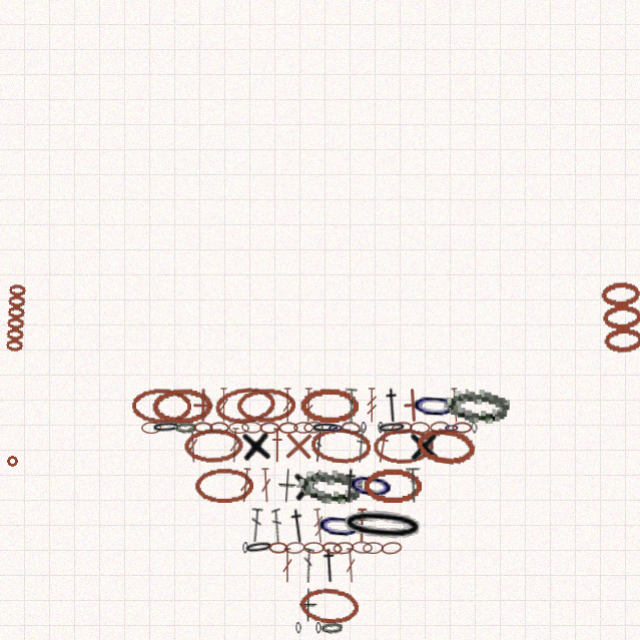chain: (338, 505, 428, 547), (414, 425, 477, 467), (214, 385, 277, 426), (297, 467, 363, 505), (444, 387, 510, 424), (310, 426, 372, 465), (299, 586, 360, 625), (184, 428, 245, 464), (373, 428, 434, 464), (152, 388, 213, 424), (345, 465, 398, 506), (132, 388, 192, 424), (237, 388, 296, 424), (195, 468, 254, 503), (363, 468, 422, 503), (300, 388, 359, 423), (315, 506, 366, 545), (410, 387, 460, 424), (244, 540, 275, 555), (377, 421, 407, 435), (152, 421, 182, 434), (311, 422, 341, 434), (333, 541, 355, 555), (381, 541, 403, 555), (391, 421, 413, 435), (285, 541, 306, 555), (322, 541, 343, 555), (341, 421, 362, 435), (321, 621, 343, 634), (175, 421, 197, 434), (352, 541, 373, 554), (242, 421, 263, 434), (304, 421, 324, 434), (430, 421, 450, 434), (304, 542, 325, 554), (363, 542, 384, 554), (229, 422, 250, 434), (269, 542, 289, 554), (142, 422, 162, 434), (194, 422, 214, 434), (210, 422, 230, 434), (260, 422, 280, 434), (279, 422, 299, 434), (294, 422, 314, 434), (410, 422, 430, 434), (452, 422, 472, 434), (328, 422, 344, 434), (444, 422, 460, 434), (471, 422, 478, 434), (296, 622, 302, 634), (316, 622, 322, 634), (243, 542, 249, 554), (361, 422, 367, 434), (378, 422, 384, 434)
double: (311, 428, 328, 464), (406, 468, 422, 503), (344, 548, 358, 583), (250, 508, 264, 543), (239, 468, 253, 503), (344, 388, 358, 423), (302, 548, 315, 583), (260, 468, 273, 503), (187, 428, 200, 463), (229, 428, 242, 463), (449, 388, 462, 423), (282, 548, 294, 583), (282, 388, 294, 423), (272, 508, 283, 543), (356, 428, 367, 463), (219, 388, 230, 423)
enseble_chain: (597, 281, 640, 358), (4, 284, 30, 355)
half_double: (287, 508, 310, 544), (339, 468, 362, 504), (382, 388, 403, 423), (320, 548, 340, 583), (374, 428, 392, 464), (355, 508, 369, 543), (271, 428, 284, 463)
noise: (7, 455, 19, 467)
single: (395, 387, 432, 424), (281, 428, 317, 464), (292, 467, 326, 504), (240, 427, 274, 464), (186, 388, 221, 423), (408, 428, 441, 464), (278, 468, 298, 504), (300, 588, 318, 623)
treble: (312, 508, 327, 544), (303, 388, 315, 423), (366, 388, 378, 423)
